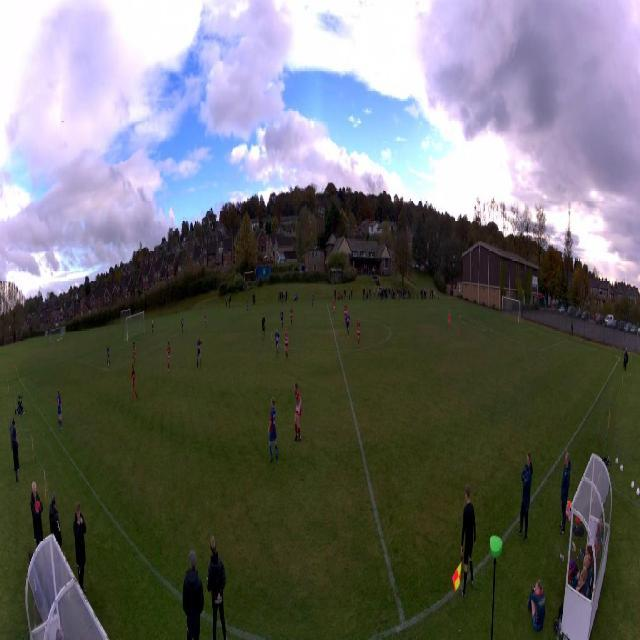ball: (108, 363, 110, 367)
player: (267, 397, 279, 465), (292, 381, 303, 442), (57, 387, 63, 432), (131, 365, 138, 403), (196, 336, 202, 368), (275, 329, 280, 359), (284, 329, 289, 359), (345, 311, 350, 338), (167, 342, 171, 372), (356, 317, 360, 347), (261, 313, 265, 340), (132, 341, 136, 363), (448, 310, 452, 332), (290, 306, 294, 326), (280, 308, 284, 328), (343, 303, 347, 323), (332, 298, 336, 315), (107, 344, 110, 366), (204, 312, 207, 329), (151, 318, 154, 334), (311, 292, 314, 308), (182, 316, 184, 334), (246, 299, 248, 311)
